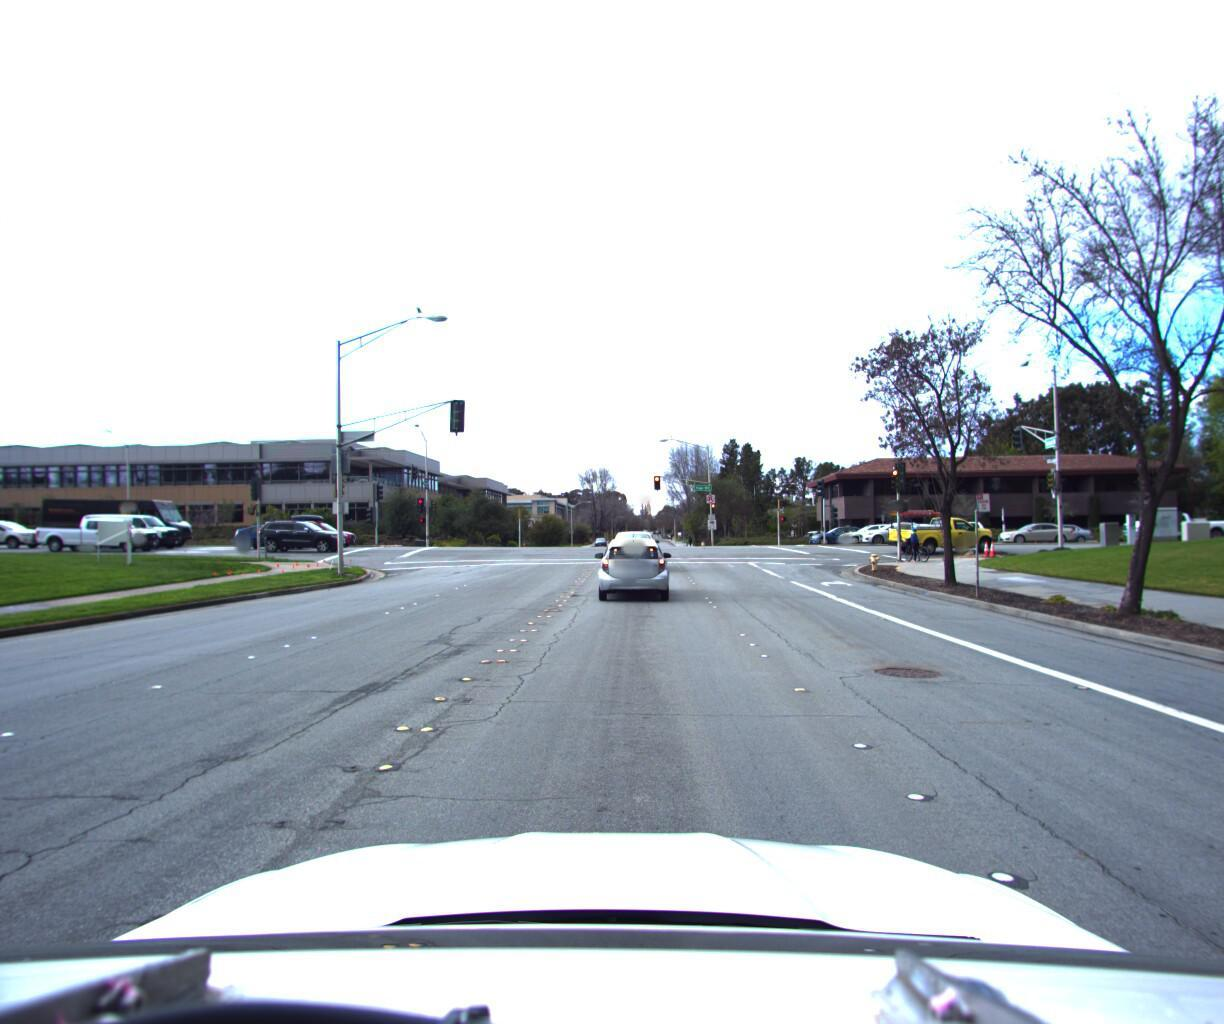bicycle: (892, 520, 933, 557)
car: (593, 528, 677, 598), (879, 502, 996, 550), (37, 514, 171, 554), (1110, 505, 1224, 540), (83, 513, 188, 548), (250, 515, 354, 550), (276, 517, 361, 549), (226, 518, 312, 549), (852, 511, 938, 543), (606, 526, 664, 571), (1003, 515, 1090, 540), (830, 516, 906, 542), (986, 516, 1072, 539), (800, 520, 878, 545)
truck: (40, 493, 206, 549)
